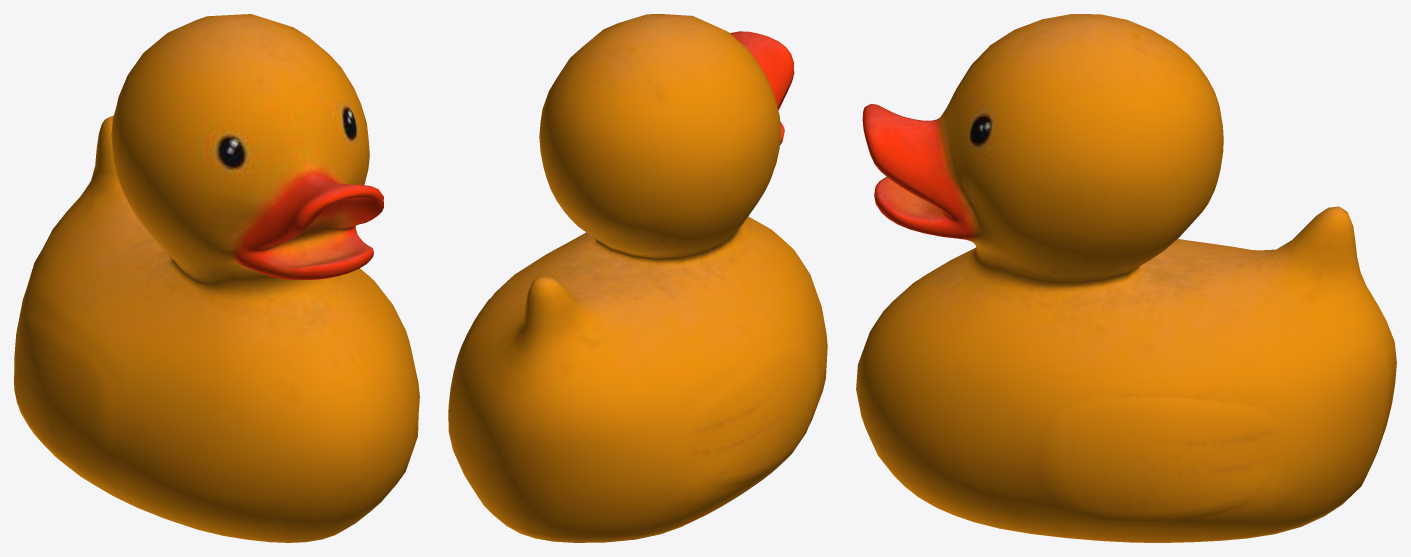
File: rubber_duck_toy.glb
3 renders of one model, left to right at view 1: azimuth 30°, elevation 25°; view 2: azimuth 150°, elevation 25°; view 3: azimuth 270°, elevation 25°, orthographic. The views are drawn at different scales.
Parts seen in each view (by area): view 1: rubber_duck_toy; view 2: rubber_duck_toy; view 3: rubber_duck_toy.
Boxes of the visible parts, left/top/right/bottom form: rubber_duck_toy: left=14, top=14, right=419, bottom=542; rubber_duck_toy: left=448, top=14, right=827, bottom=542; rubber_duck_toy: left=856, top=14, right=1396, bottom=542.
Bounding box in the file's own units: 0.2135 × 0.2855 × 0.3.
1 material, 1 textured.
